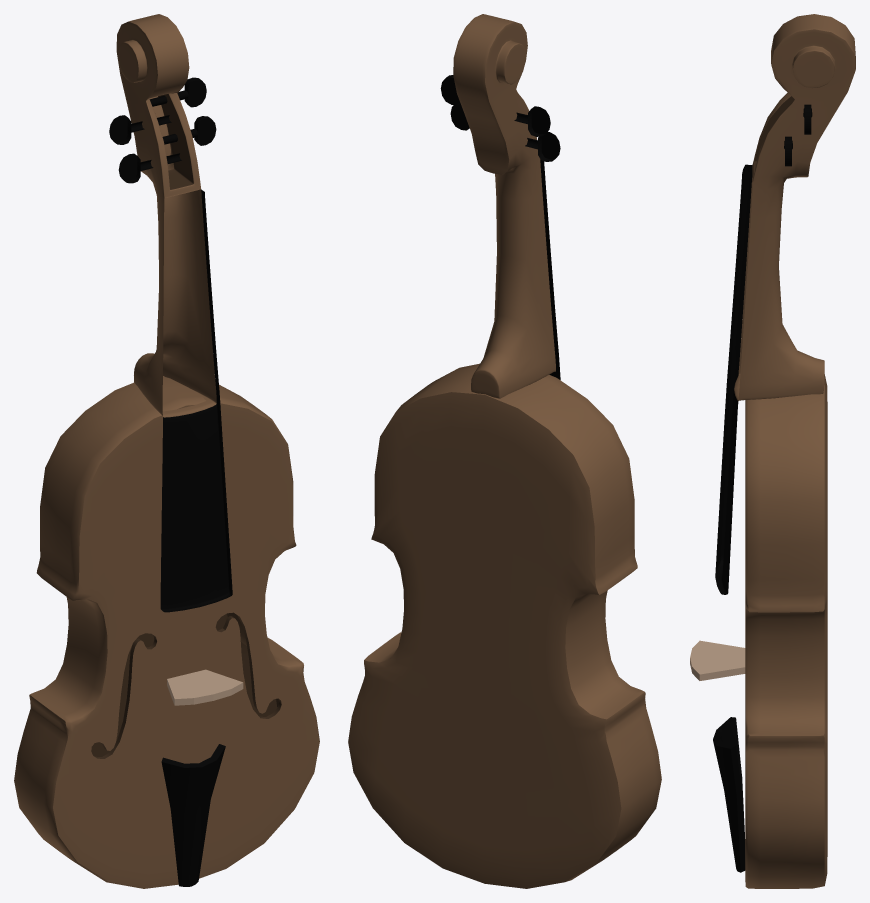
The model's file is violin.glb.
3 renders of one model, left to right at view 1: azimuth 30°, elevation 25°; view 2: azimuth 150°, elevation 25°; view 3: azimuth 270°, elevation 25°, orthographic. The views are drawn at different scales.
Visible parts, largest first — view 1: Body, Neck, Tailpiece, Peg, Bridge; view 2: Body, Neck, Peg; view 3: Body, Neck, Tailpiece, Bridge, Peg.
Boxes of the visible parts, bbox=[...] form: Body: bbox=[14, 377, 319, 888]; Neck: bbox=[116, 14, 232, 612]; Tailpiece: bbox=[161, 744, 225, 886]; Peg: bbox=[109, 77, 216, 183]; Bridge: bbox=[167, 669, 243, 705]; Body: bbox=[348, 363, 661, 888]; Neck: bbox=[453, 14, 560, 398]; Peg: bbox=[440, 75, 560, 161]; Body: bbox=[745, 374, 827, 888]; Neck: bbox=[715, 14, 855, 594]; Tailpiece: bbox=[713, 717, 745, 872]; Bridge: bbox=[690, 640, 745, 680]; Peg: bbox=[784, 104, 812, 166].
Size of the model in its own units: 0.2161 by 0.6408 by 0.1133.
